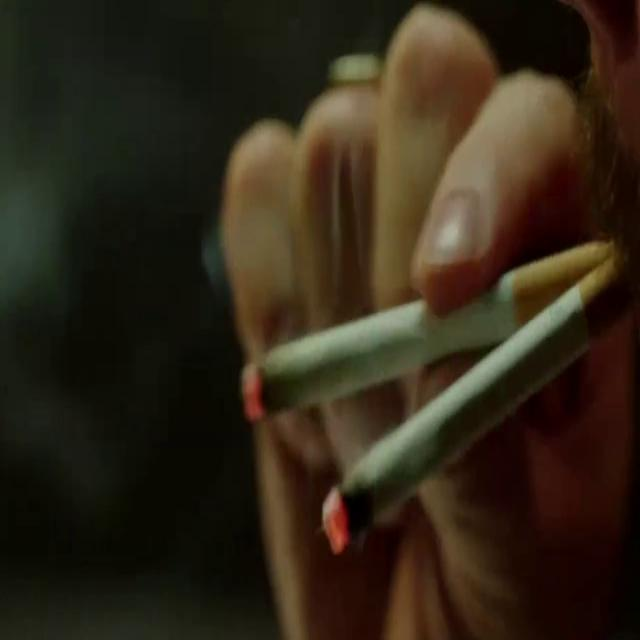Smooking: (218, 230, 640, 572)
